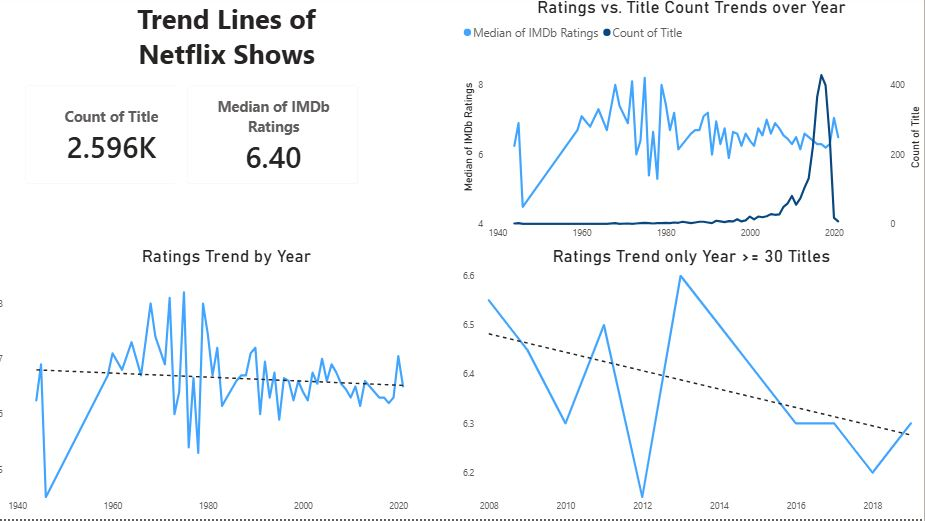

Layout of this report page (visuals, bound fields, positions):
{"tool":"powerbi","page":{"name":"Dashboard 2","canvas":[1280,720],"ordinal":1},"visuals":[{"type":"lineChart","title":"Ratings Trend by Year","fields":{"Category":["netflix_shows_fact.release_year"],"Y":["_Measures.Median of IMDb Ratings"]},"box":[0,344.1,640,375.7],"z":0},{"type":"cardVisual","fields":{"Data":["_Measures.Count of Title"]},"box":[26.2,106,269.8,170.7],"z":1000},{"type":"cardVisual","fields":{"Data":["_Measures.Median of IMDb Ratings"]},"box":[249.1,106,269.8,170.7],"z":2000},{"type":"textbox","box":[128,0,384,117],"z":3000},{"type":"lineChart","title":"Ratings vs. Title Count Trends over Year","fields":{"Category":["netflix_shows_fact.release_year"],"Y2":["_Measures.Count of Title"],"Y":["_Measures.Median of IMDb Ratings"]},"box":[640,1.4,640,342.7],"z":4000},{"type":"lineChart","title":"Ratings Trend only Year >= 30 Titles","fields":{"Category":["netflix_shows_fact.release_year"],"Y":["_Measures.Median of IMDb Ratings"]},"box":[640,344.1,640,375.7],"z":5000}]}

Visuals, with their boxes in screenshot pixels (x1, y1, x2, y2), scaled from the page's 1280x720 canvas onto the 925x521 screenshot:
"Ratings Trend by Year" lineChart: x1=0 y1=249 x2=462 y2=520
cardVisual - _Measures.Count of Title: x1=19 y1=77 x2=214 y2=200
cardVisual - _Measures.Median of IMDb Ratings: x1=180 y1=77 x2=375 y2=200
textbox: x1=92 y1=0 x2=370 y2=85
"Ratings vs. Title Count Trends over Year" lineChart: x1=462 y1=1 x2=924 y2=249
"Ratings Trend only Year >= 30 Titles" lineChart: x1=462 y1=249 x2=924 y2=520
